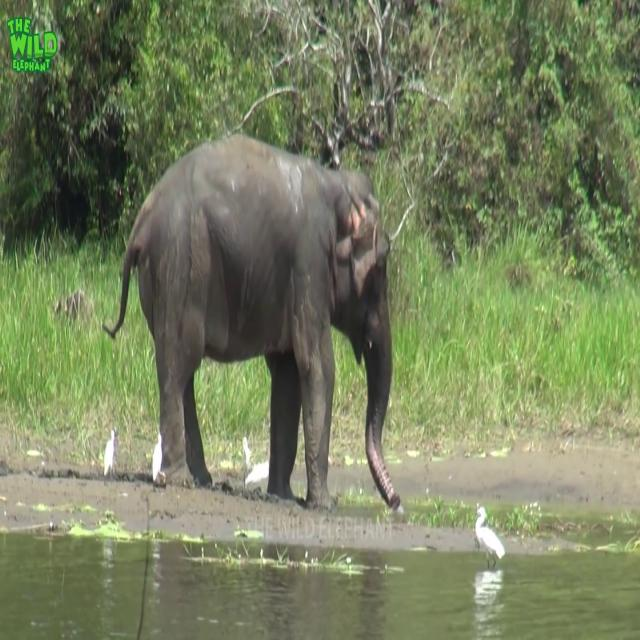Elephant: (102, 132, 402, 513)
